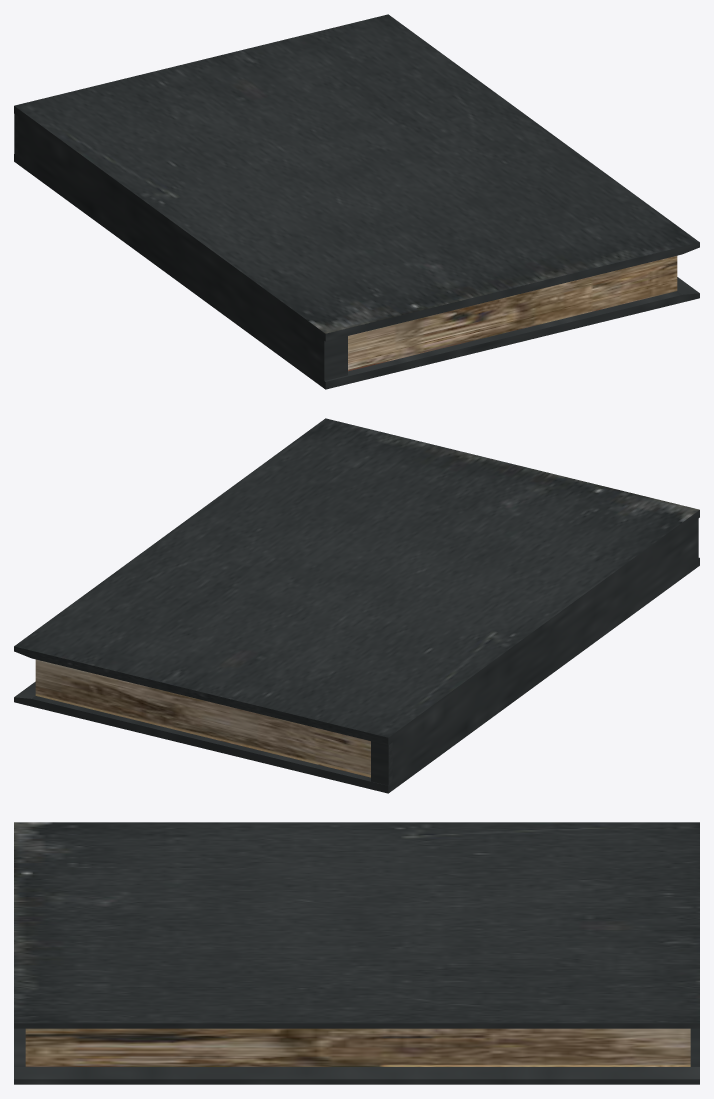
File: book4.fbx
3 renders of one model, top to bottom at view 1: azimuth 30°, elevation 25°; view 2: azimuth 150°, elevation 25°; view 3: azimuth 270°, elevation 25°, orthographic. The views are drawn at different scales.
Parts seen in each view (by area): view 1: Cube.030; view 2: Cube.030; view 3: Cube.030.
Boxes of the visible parts, x1,y1,x2,y2 form: Cube.030: (14, 14, 699, 389); Cube.030: (14, 418, 699, 793); Cube.030: (14, 822, 699, 1084).
Bounding box in the file's own units: 64.08 × 9.14 × 92.36.
